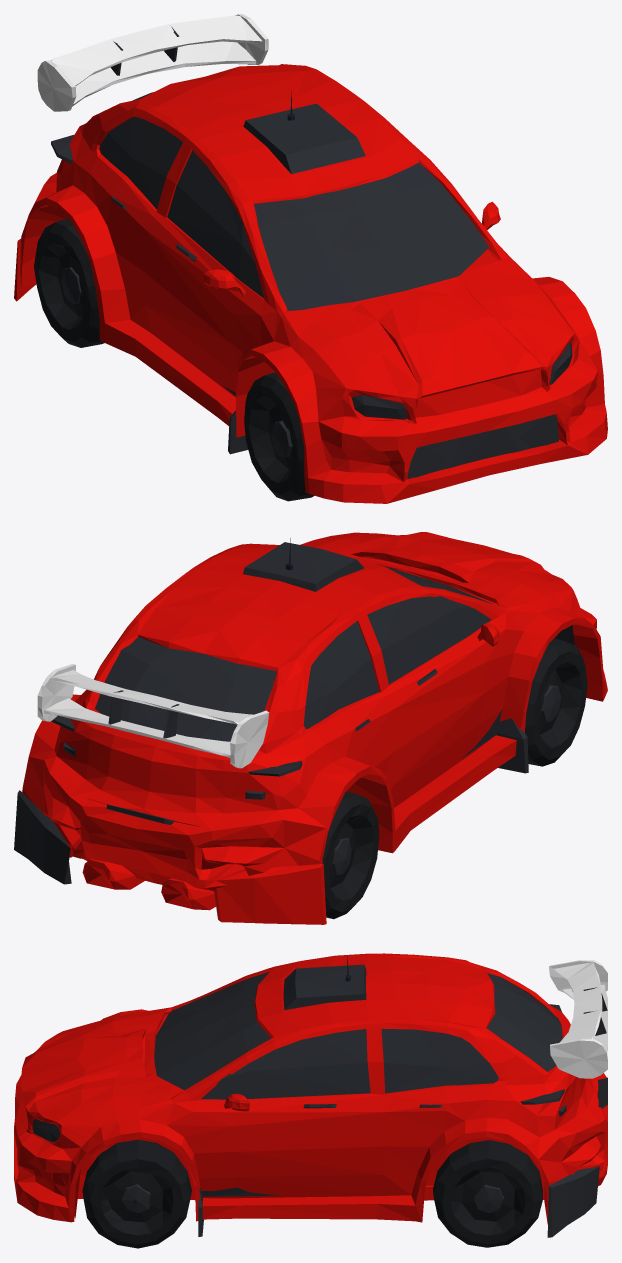
File: rally.glb
The picture shows the model from 3 angles, top to bottom: view 1: azimuth 30°, elevation 25°; view 2: azimuth 150°, elevation 25°; view 3: azimuth 270°, elevation 25°; orthographic projection. The views are drawn at different scales.
Parts seen in each view (by area): view 1: primary, dark, secondary, wheel_3, wheel_1; view 2: primary, dark, secondary, wheel_1, wheel_3; view 3: primary, dark, wheel_2, wheel_0, secondary.
Boxes of the visible parts, left/top/right/bottom form: primary: left=14, top=64, right=607, bottom=503; dark: left=51, top=26, right=572, bottom=478; secondary: left=37, top=14, right=268, bottom=111; wheel_3: left=34, top=218, right=104, bottom=347; wheel_1: left=244, top=372, right=314, bottom=501; primary: left=22, top=532, right=607, bottom=924; dark: left=14, top=542, right=574, bottom=884; secondary: left=37, top=664, right=269, bottom=768; wheel_1: left=525, top=638, right=587, bottom=766; wheel_3: left=322, top=791, right=379, bottom=919; primary: left=14, top=953, right=607, bottom=1224; dark: left=32, top=964, right=607, bottom=1237; wheel_2: left=433, top=1140, right=542, bottom=1247; wheel_0: left=82, top=1140, right=191, bottom=1248; secondary: left=549, top=960, right=607, bottom=1078.
Size of the model in its own units: 2.23 by 1.96 by 4.4.
